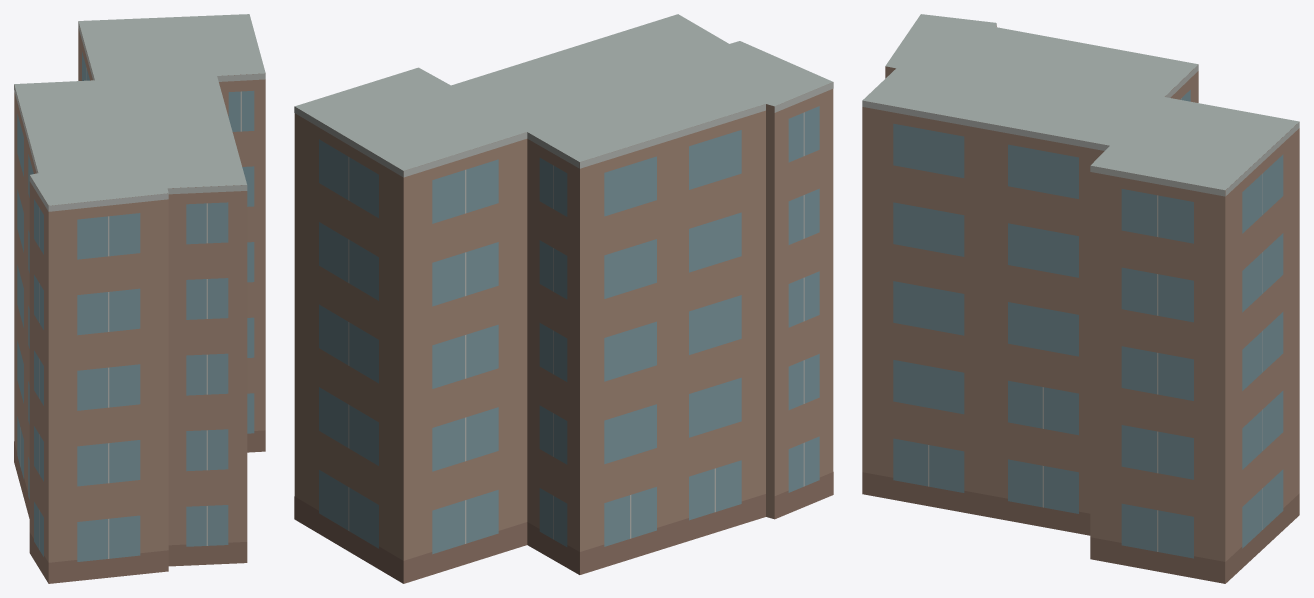
Rendered from survey-upis-32811299.glb.
The picture shows the model from 3 angles, left to right: view 1: azimuth 30°, elevation 25°; view 2: azimuth 150°, elevation 25°; view 3: azimuth 270°, elevation 25°; orthographic projection. The views are drawn at different scales.
Visible parts, largest first — view 1: survey-upis-32811299.tmp; view 2: survey-upis-32811299.tmp; view 3: survey-upis-32811299.tmp.
Part boxes in pixels (bbox=[...]): survey-upis-32811299.tmp: bbox=[14, 14, 265, 583]; survey-upis-32811299.tmp: bbox=[294, 14, 833, 583]; survey-upis-32811299.tmp: bbox=[862, 14, 1299, 583].
Bounding box in the file's own units: 14.66 × 15.25 × 15.37.
